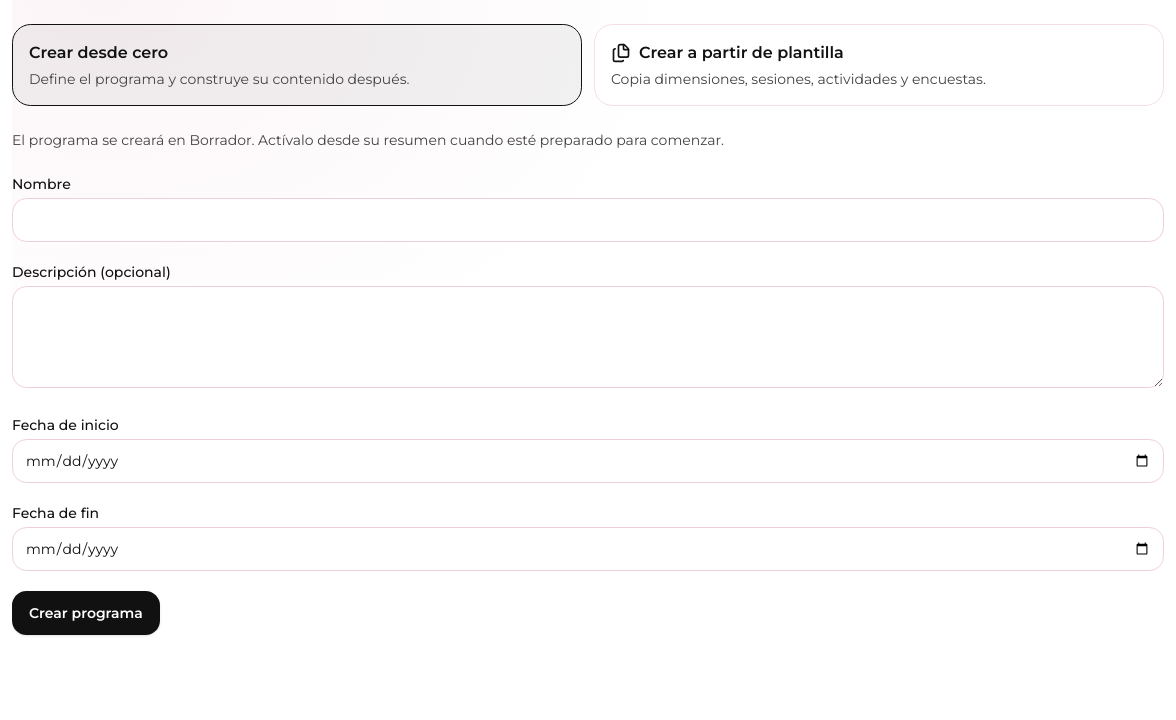
Scenario: rejects reversed dates before submission
Type "Programa real" into the field labelled "Nombre".
click(588, 220); type("Programa real")  # box left=12, top=198, right=1164, bottom=242
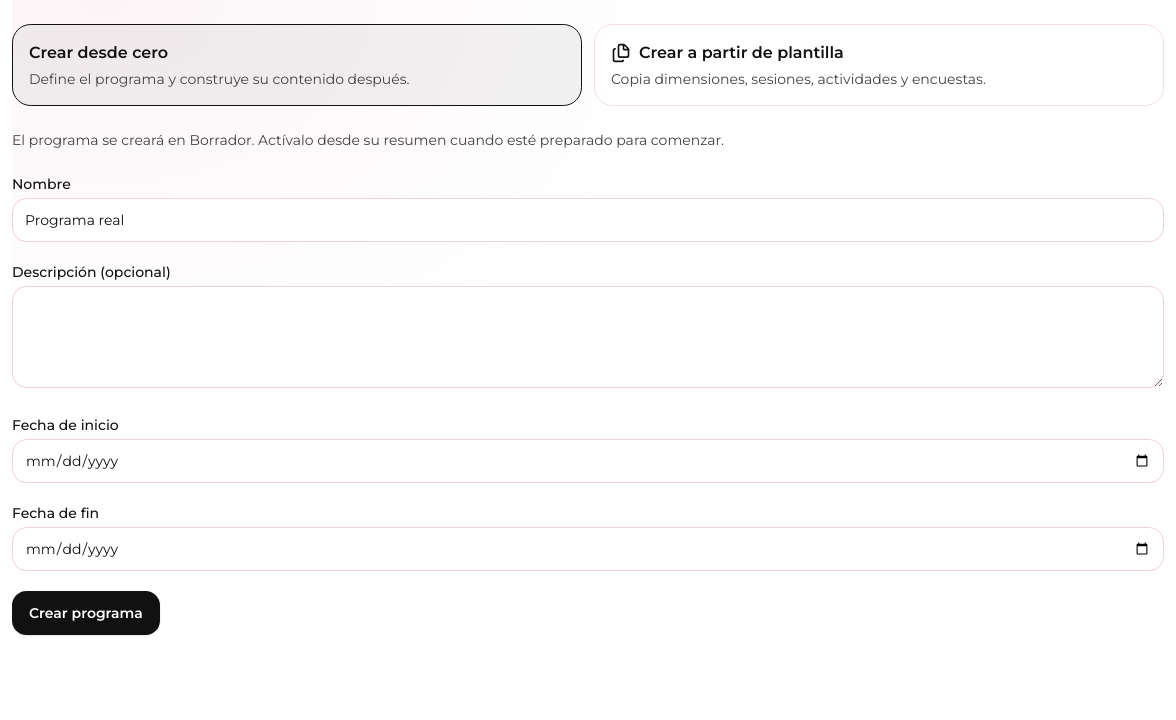
Type "2026-09-01" into the date field labelled "Fecha de inicio".
click(588, 461); type("2026-09-01")  # box left=12, top=439, right=1164, bottom=483
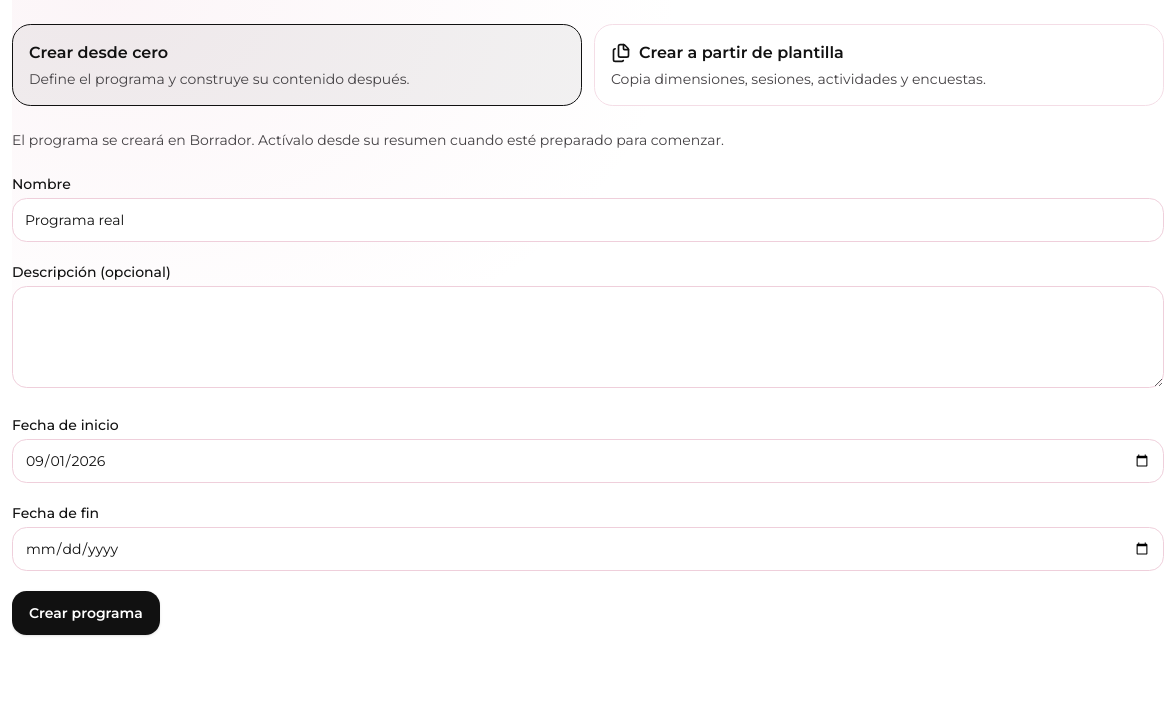
Type "2026-12-01" into the date field labelled "Fecha de fin".
click(588, 549); type("2026-12-01")  # box left=12, top=527, right=1164, bottom=571
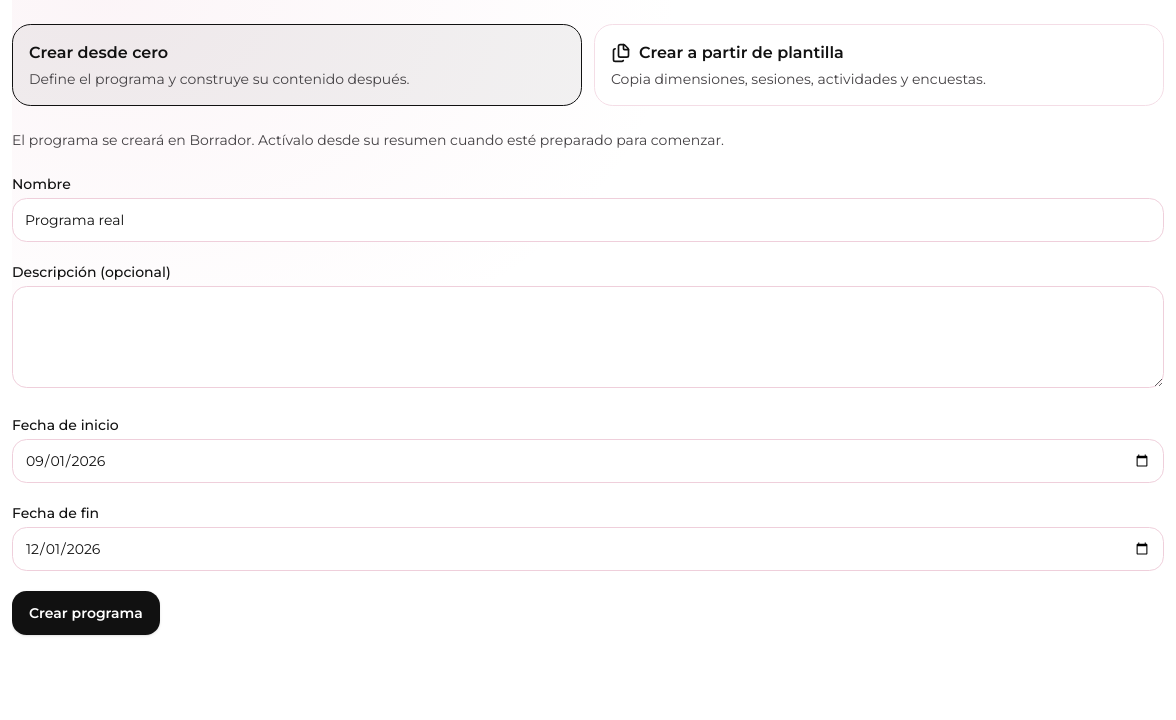
Type "2027-01-01" into the date field labelled "Fecha de inicio".
click(588, 461); type("2027-01-01")  # box left=12, top=439, right=1164, bottom=483
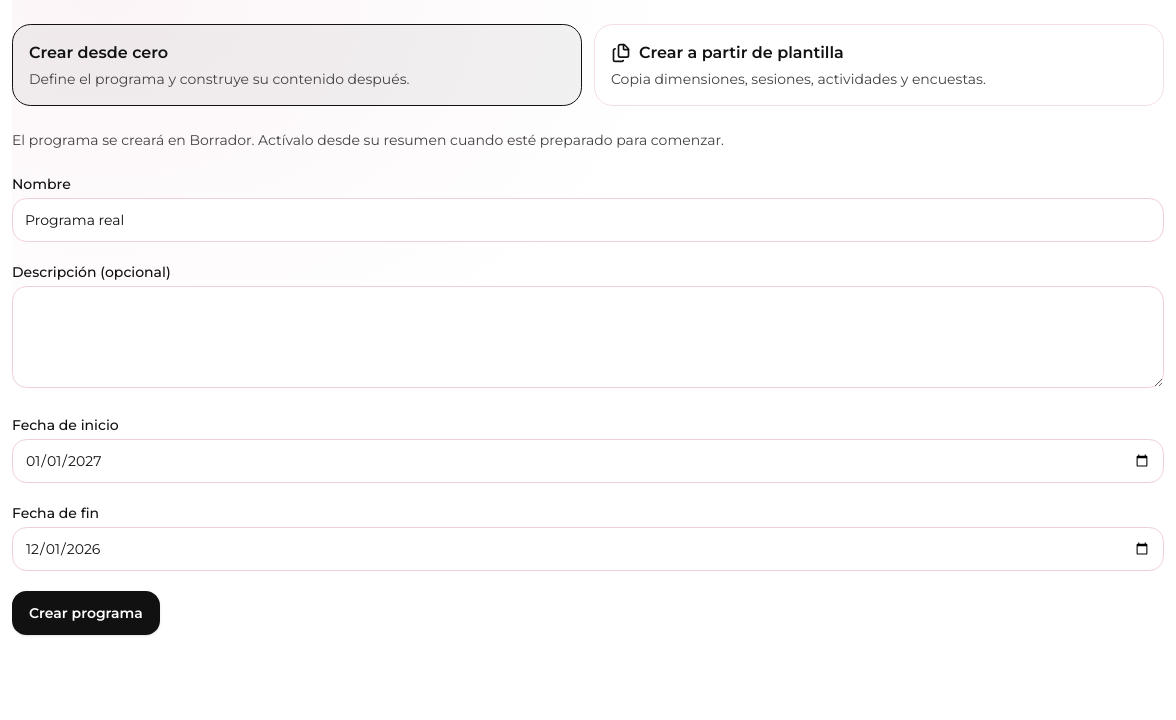
Submit the form
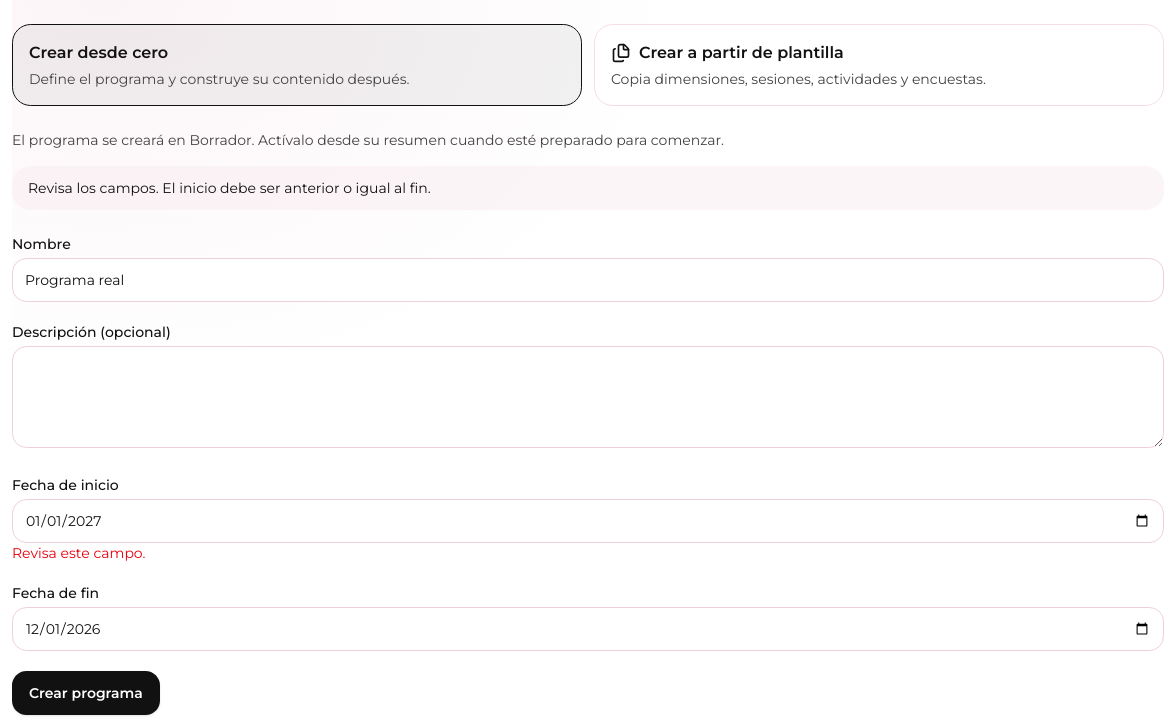
Check: the text "Revisa los campos. El inicio debe ser anterior o igual al fin." is shown, box left=12, top=166, right=1164, bottom=210
